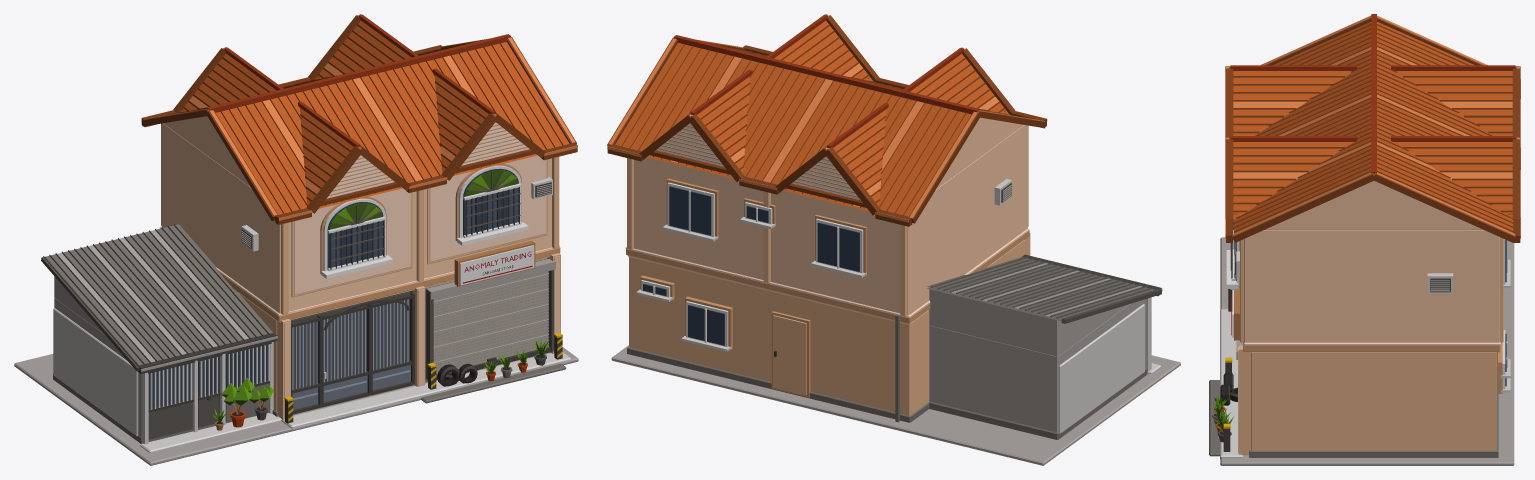
The model's file is house-two-story.glb.
The picture shows the model from 3 angles, left to right: view 1: azimuth 30°, elevation 25°; view 2: azimuth 150°, elevation 25°; view 3: azimuth 270°, elevation 25°; orthographic projection. The views are drawn at different scales.
Visible parts, largest first — view 1: Filipino House_LOD0; view 2: Filipino House_LOD0; view 3: Filipino House_LOD0.
Part boxes in pixels (x1,y1,x2,y2): Filipino House_LOD0: (14,14,578,465); Filipino House_LOD0: (607,14,1180,465); Filipino House_LOD0: (1209,14,1520,465).
Size of the model in its own units: 13.01 by 7.89 by 7.55.
1 material, 1 textured.
